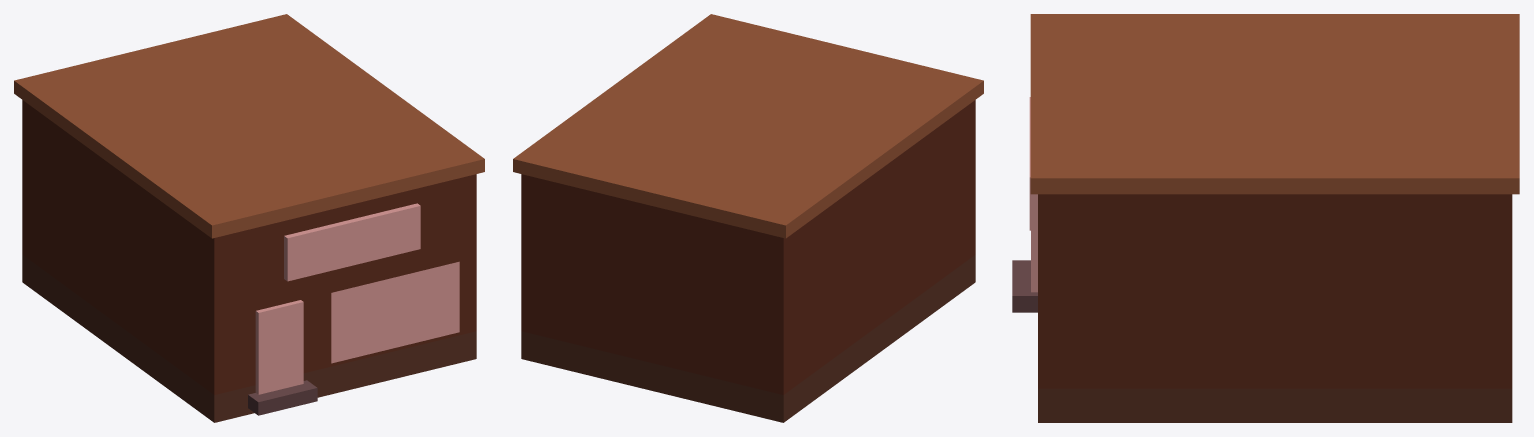
Rendered from Building4.fbx.
3 views of the same model, side by side, from view 1: azimuth 30°, elevation 25°; view 2: azimuth 150°, elevation 25°; view 3: azimuth 270°, elevation 25° (orthographic). The views are drawn at different scales.
Visible parts, largest first — view 1: Cube.002; view 2: Cube.002; view 3: Cube.002.
Part boxes in pixels (x1,y1,x2,y2): Cube.002: (14,14,484,422); Cube.002: (513,14,983,422); Cube.002: (1012,14,1519,422).
Bounding box in the file's own units: 1371 × 964 × 1789.
